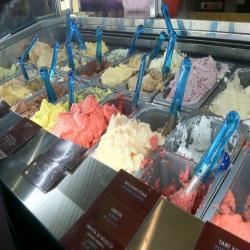icecream: (164, 47, 221, 110), (95, 114, 157, 171), (59, 96, 121, 147), (96, 56, 139, 88), (36, 99, 62, 127)
